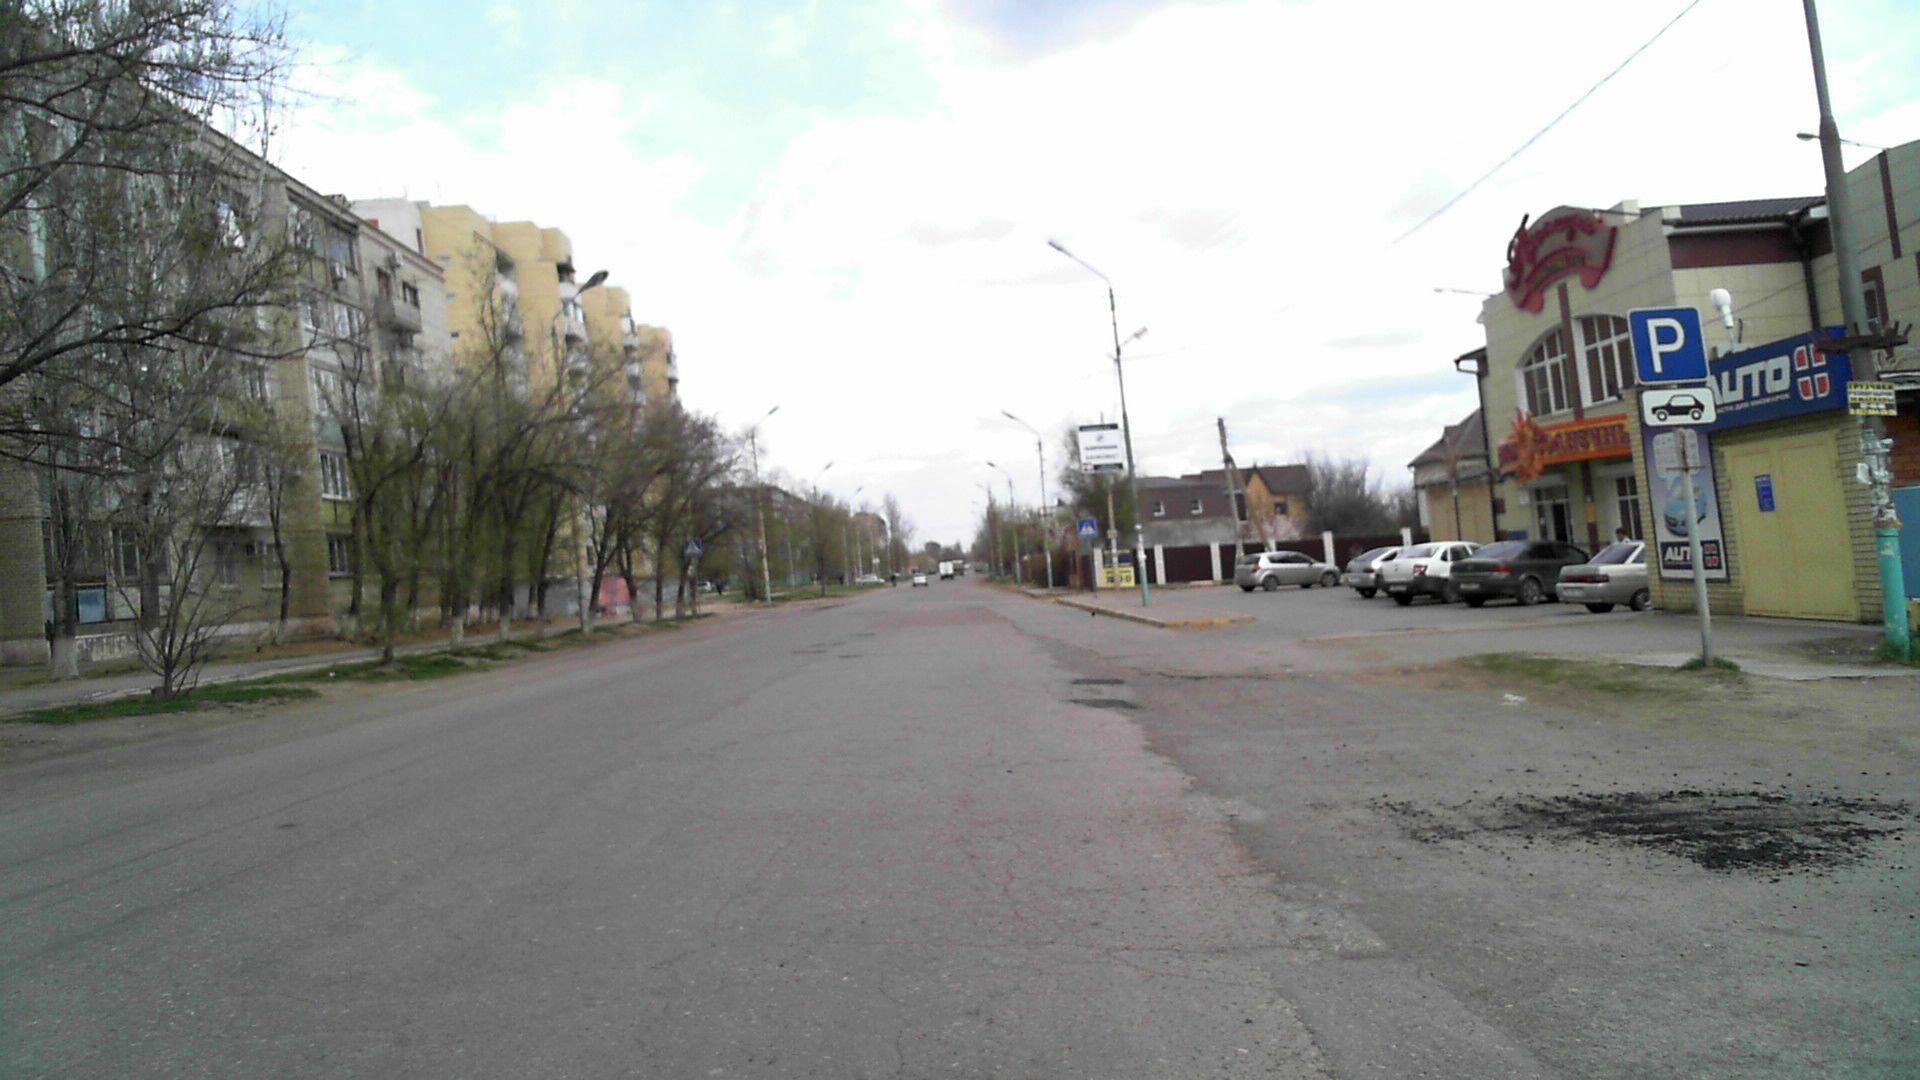5_19_1: (1077, 517, 1097, 538)
5_19_2: (683, 537, 703, 556)
6_4: (1625, 305, 1710, 384)
8_4_3_2: (1640, 388, 1717, 426)
